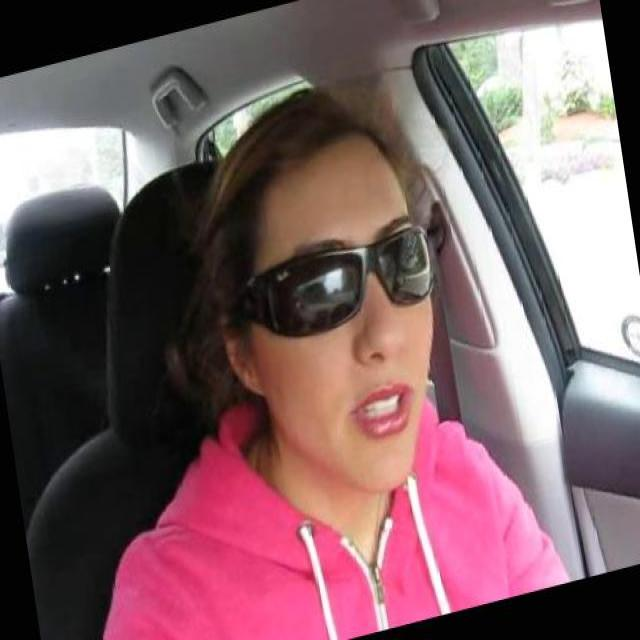no-seatbelt: (156, 437, 536, 638)
